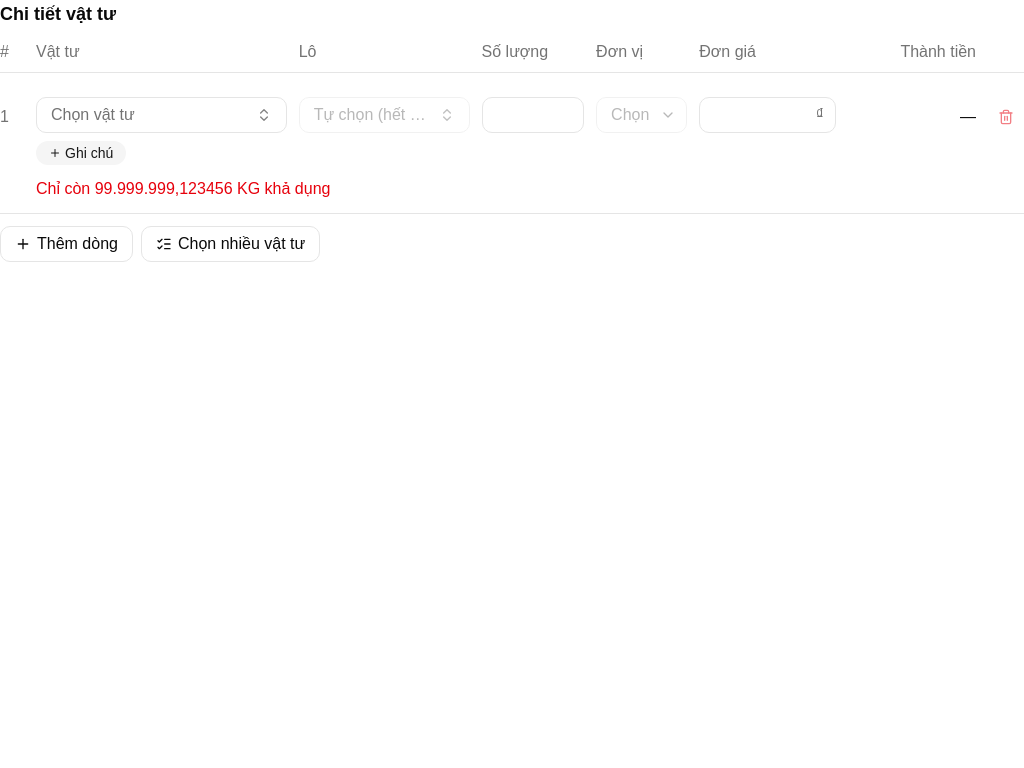
Test: ExportFormItemsField — worst case › ô xổ vật tư: tên dài đủ chữ trong mục; vật tư một chữ cái vẫn hiện
Click the dropdown labelled "Chọn vật tư".
click(161, 115)  # box [36,97,287,133]
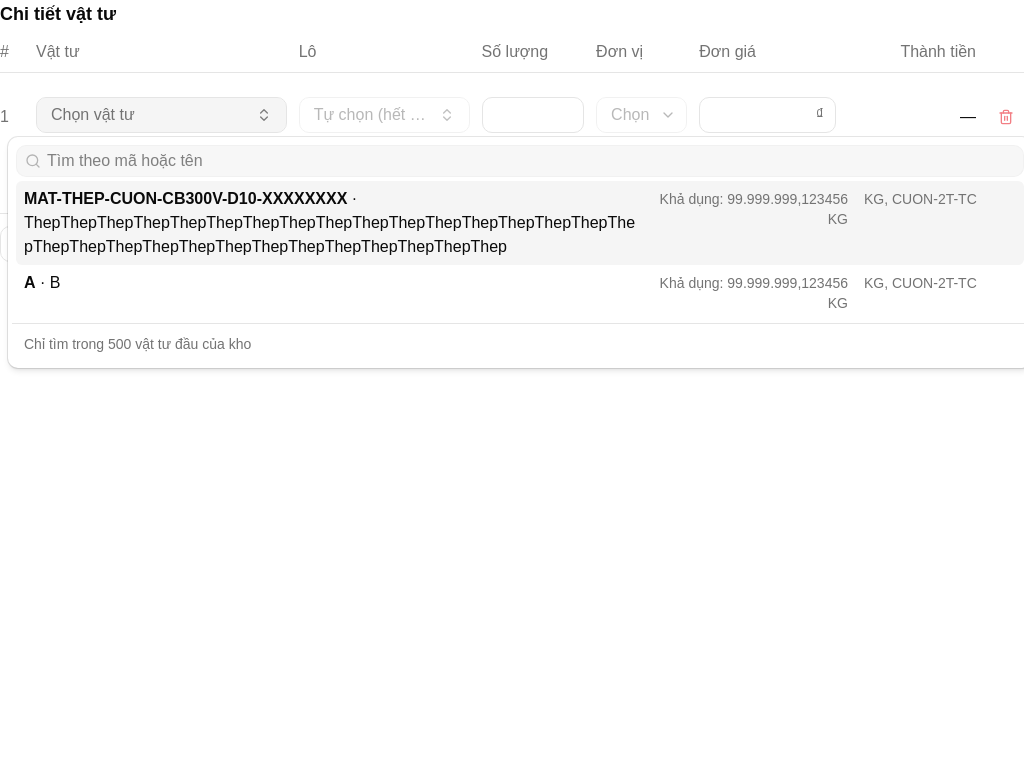
Now the option "A · B Khả dụng: 99.999.999,123456 KG KG, CUON-2T-TC" is shown, box [16,265,1023,319]
Now the text "Chỉ tìm trong 500 vật tư đầu của kho" is shown, box [24,336,251,352]
